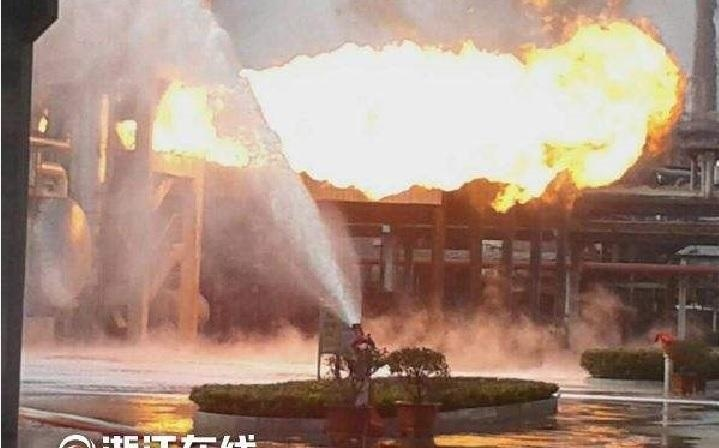fire: (218, 24, 690, 200)
